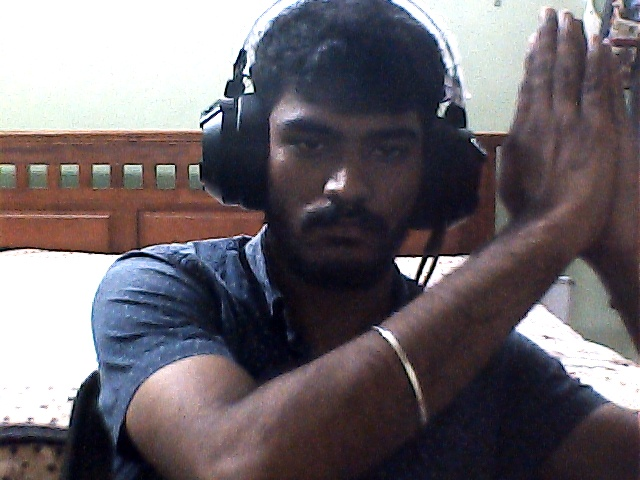Sign: (486, 7, 640, 241)
